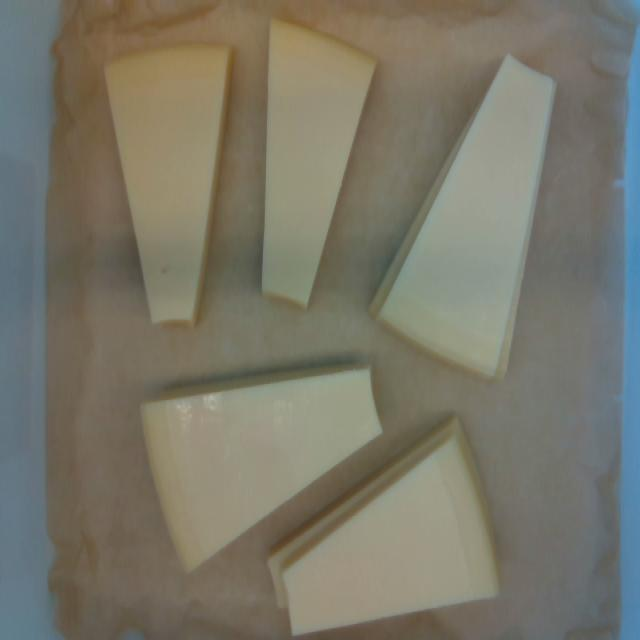cheese: (372, 56, 553, 375), (144, 368, 381, 568), (284, 434, 500, 634), (107, 47, 229, 323), (262, 21, 374, 305)
